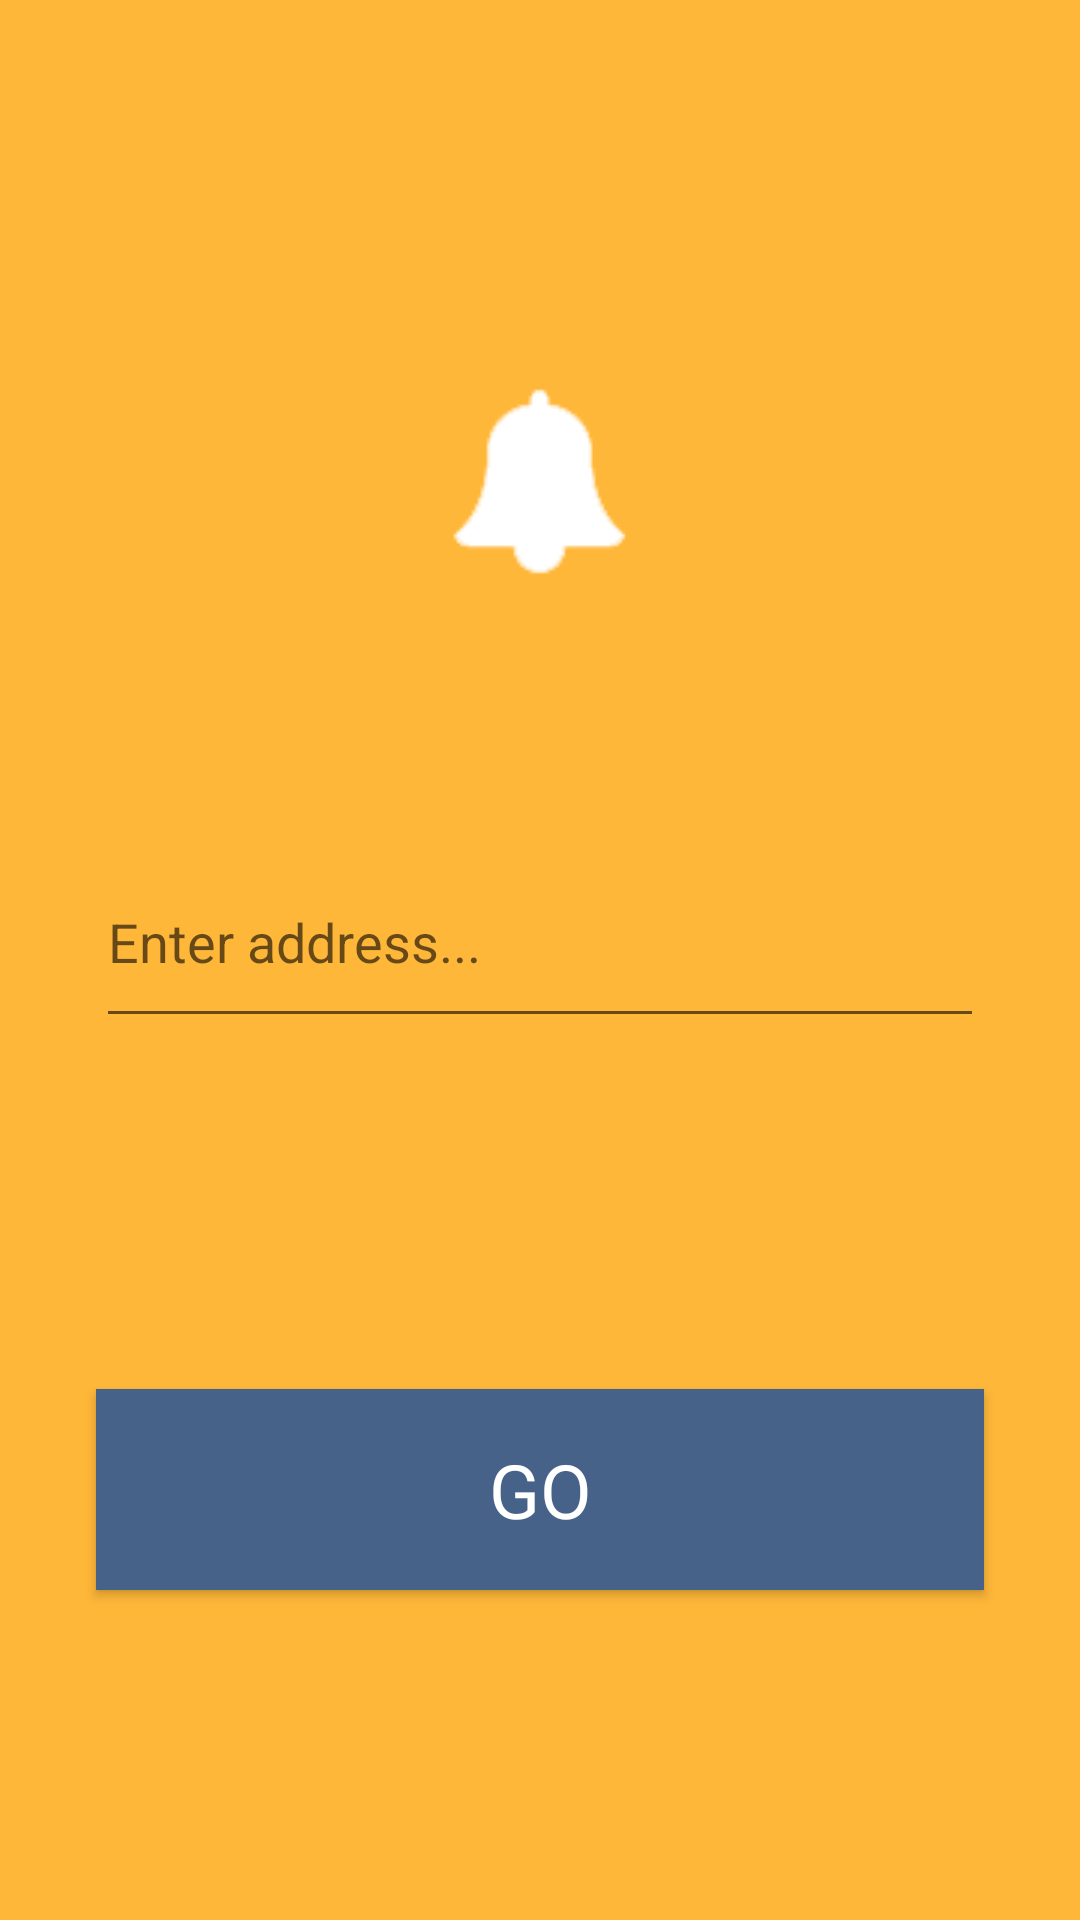

Icon click points for this 1080x1920 phone screenshot, format point (x, y):
firebelllicon: point (539, 481)
